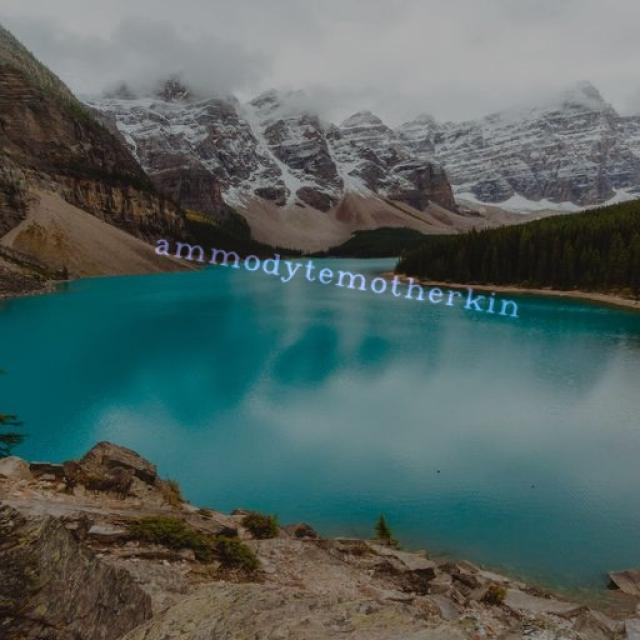watermark: (144, 230, 539, 321)
